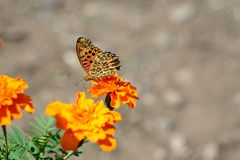Argyreus hyperbius: (72, 34, 122, 86)
butterfly: (74, 36, 124, 88)
